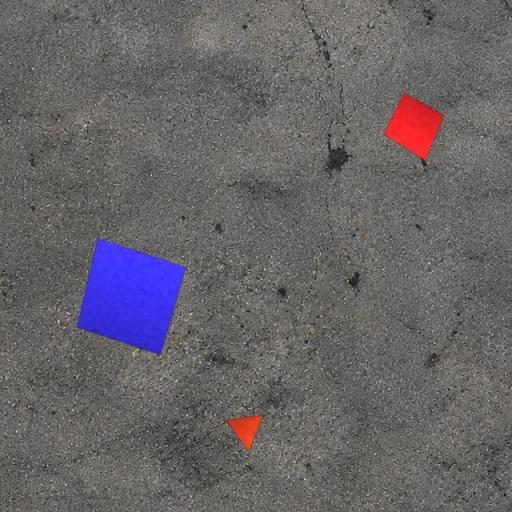BLUE_SQUARE: (76, 238, 186, 356)
RED_SQUARE: (383, 92, 445, 162)
